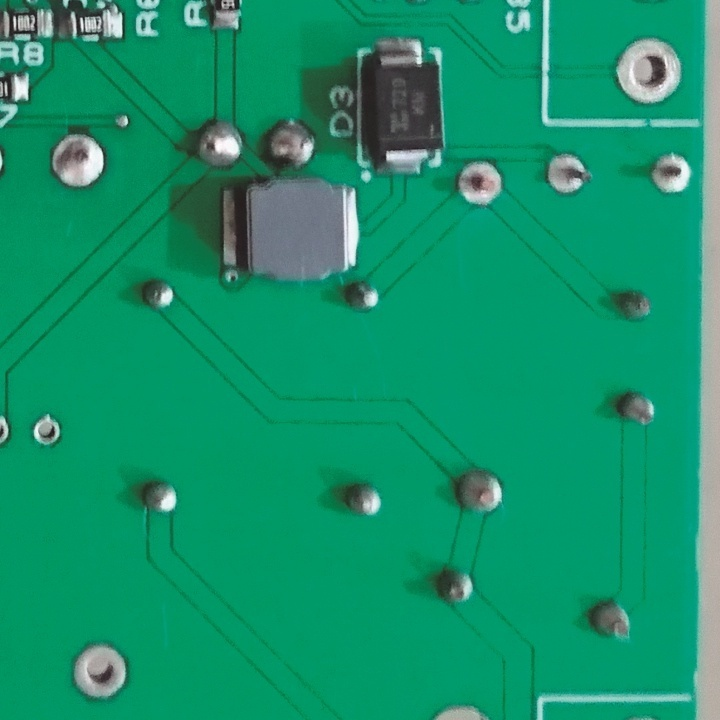F: (613, 35, 685, 111), (67, 639, 133, 701), (49, 129, 107, 193), (454, 158, 507, 214), (544, 149, 598, 200), (648, 151, 693, 198), (30, 412, 67, 448)
